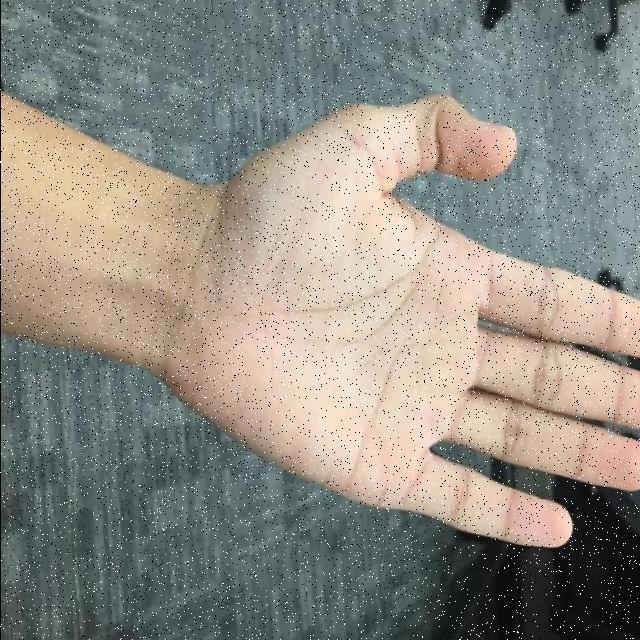hand: (143, 95, 640, 549)
